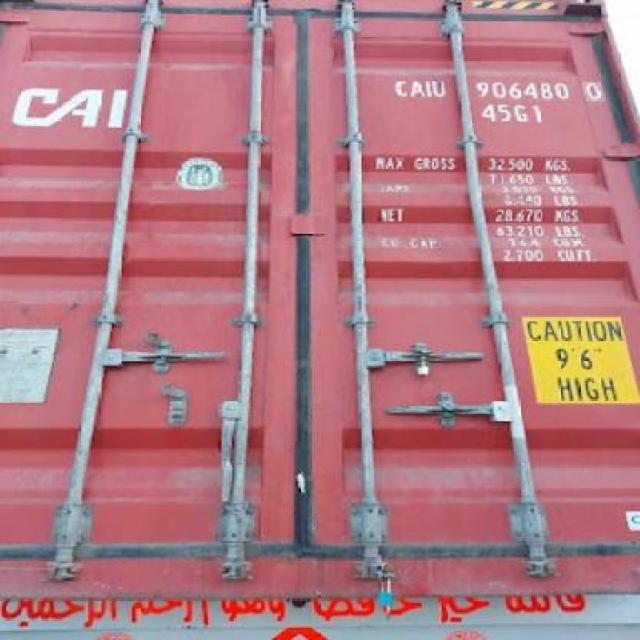ISO: (483, 100, 553, 130)
container_number: (396, 73, 610, 104)
